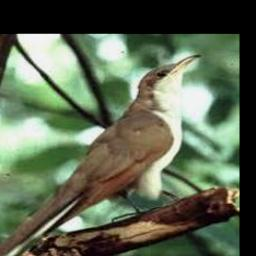Cuckoo: (0, 55, 200, 256)
